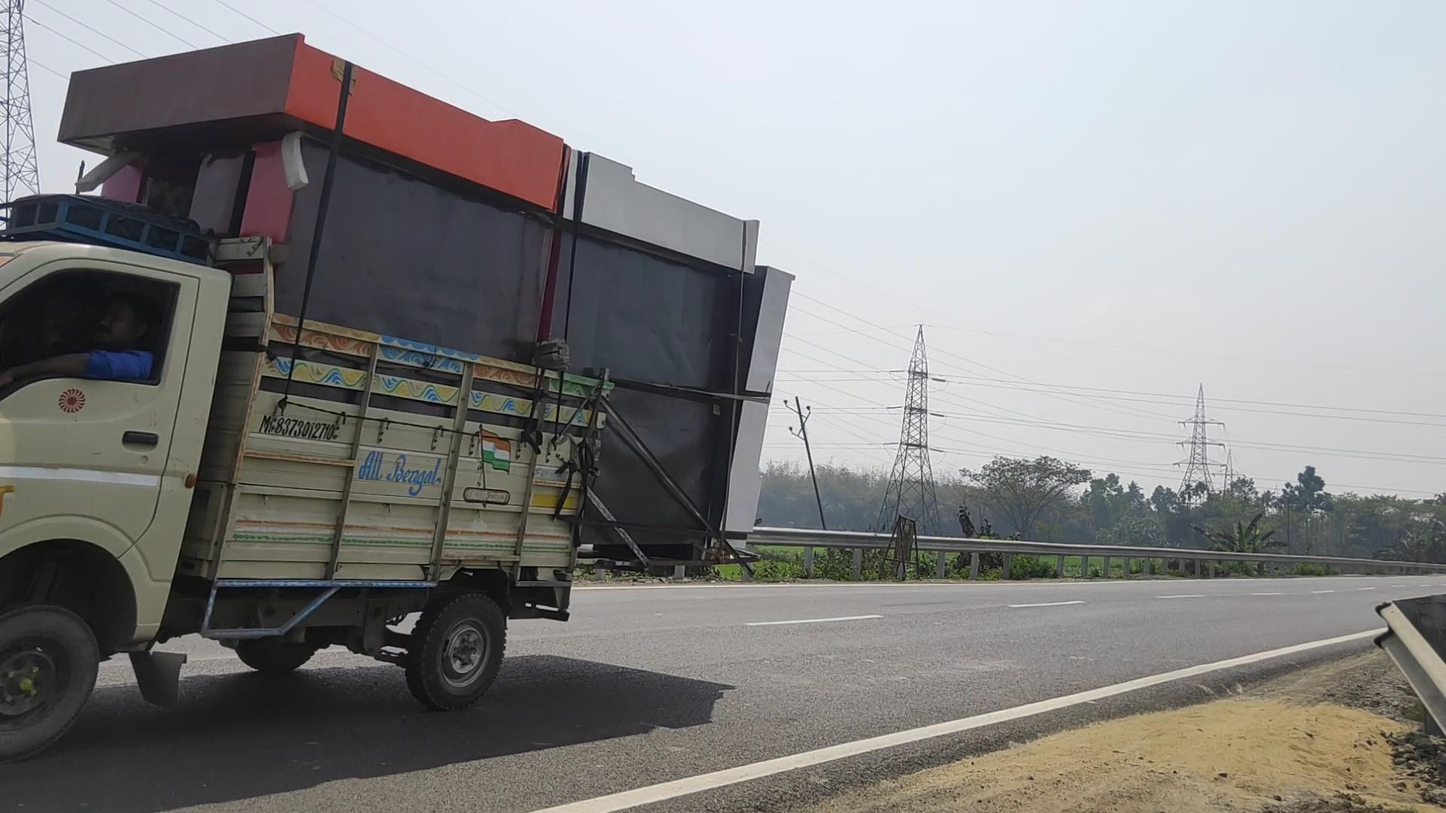van: (1, 32, 796, 766)
